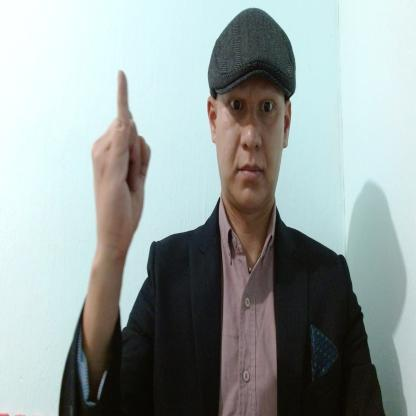I: (90, 68, 154, 243)
